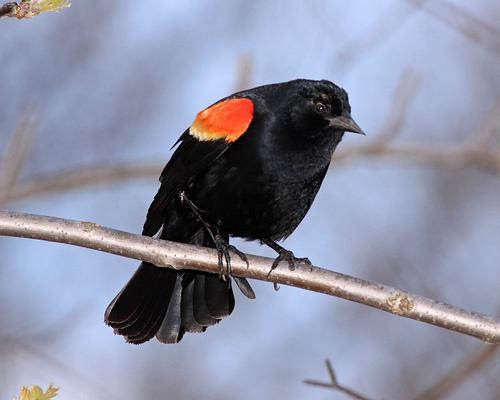010.Red_winged_Blackbird: (102, 78, 366, 347)
